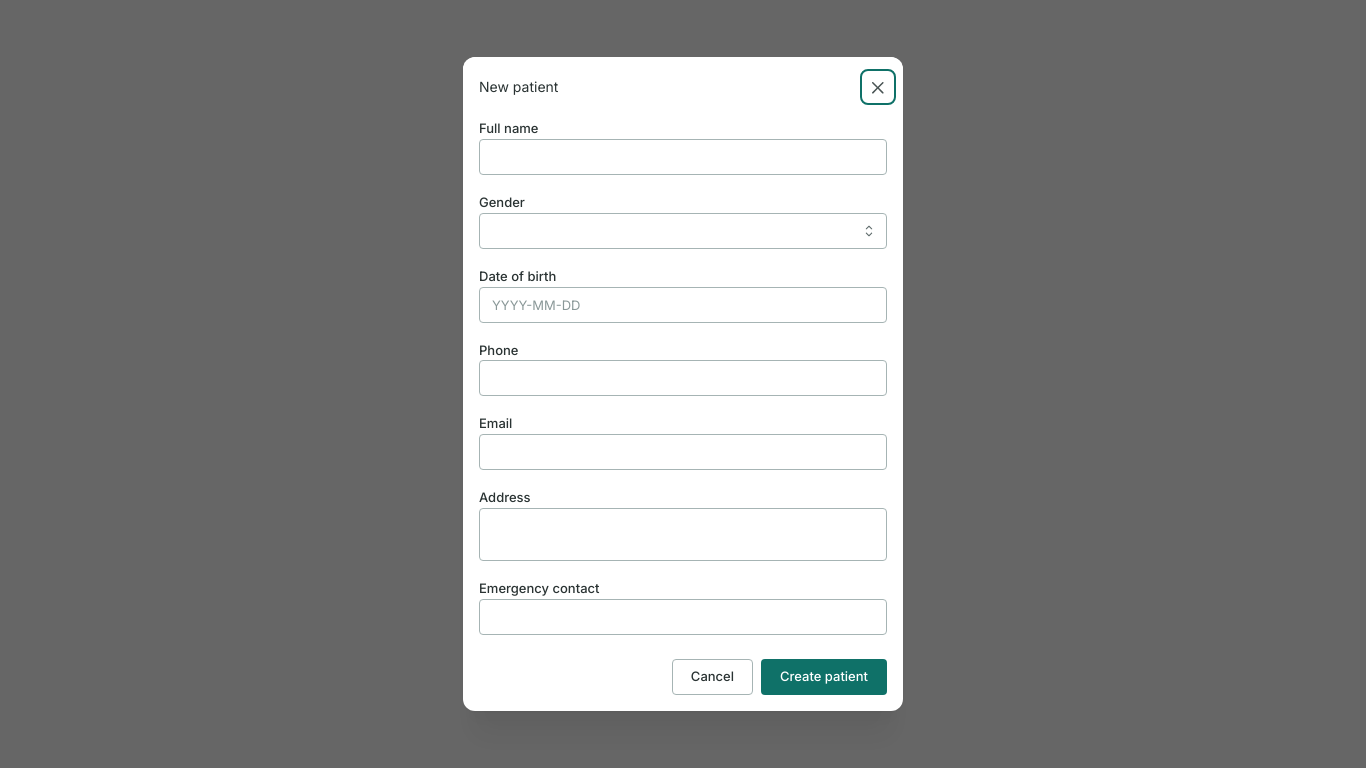
Scenario: DuplicateWarning inside PatientFormDialog › warns on a matching patient without ever blocking submission
Step 1. Type "Asha Rao" into the field labelled "Full name" → [683, 157], box [479,139,887,175]
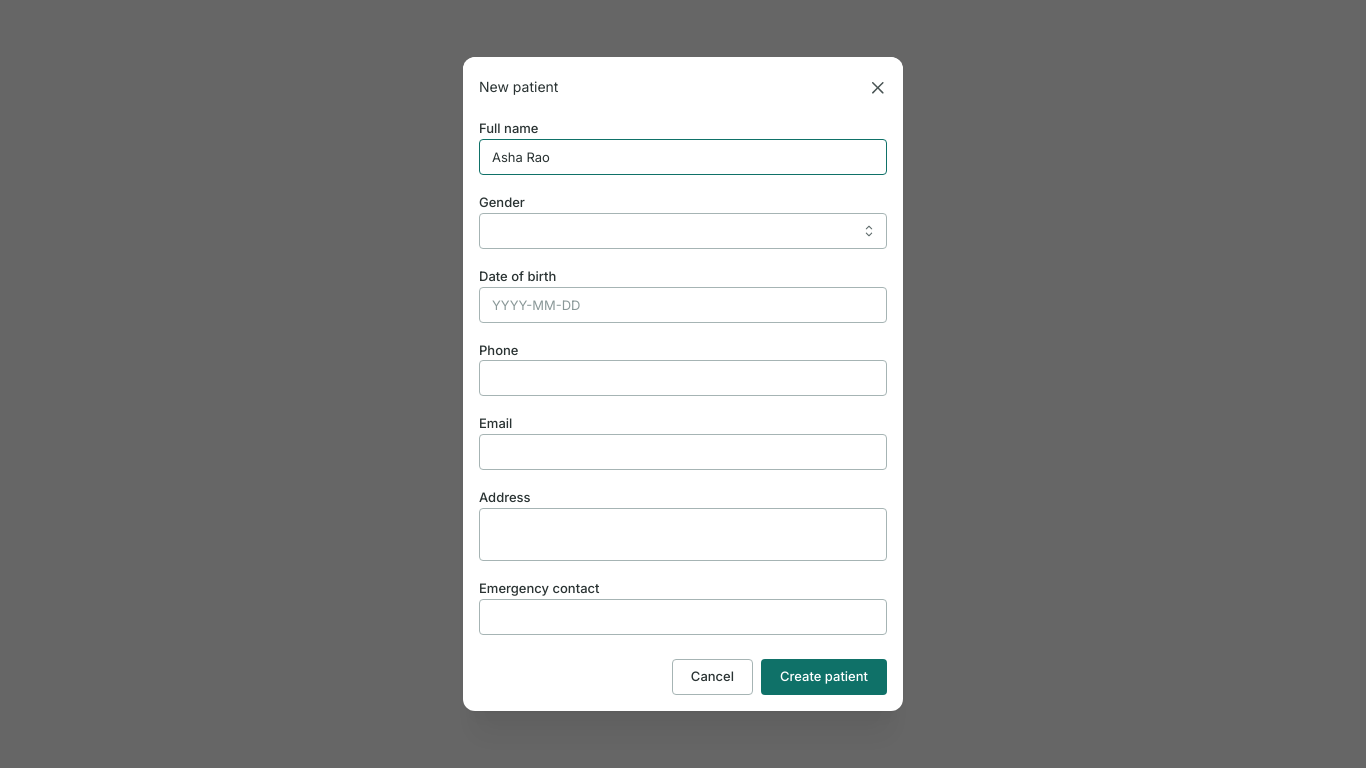
Step 2. Press Tab
(page scrolled)
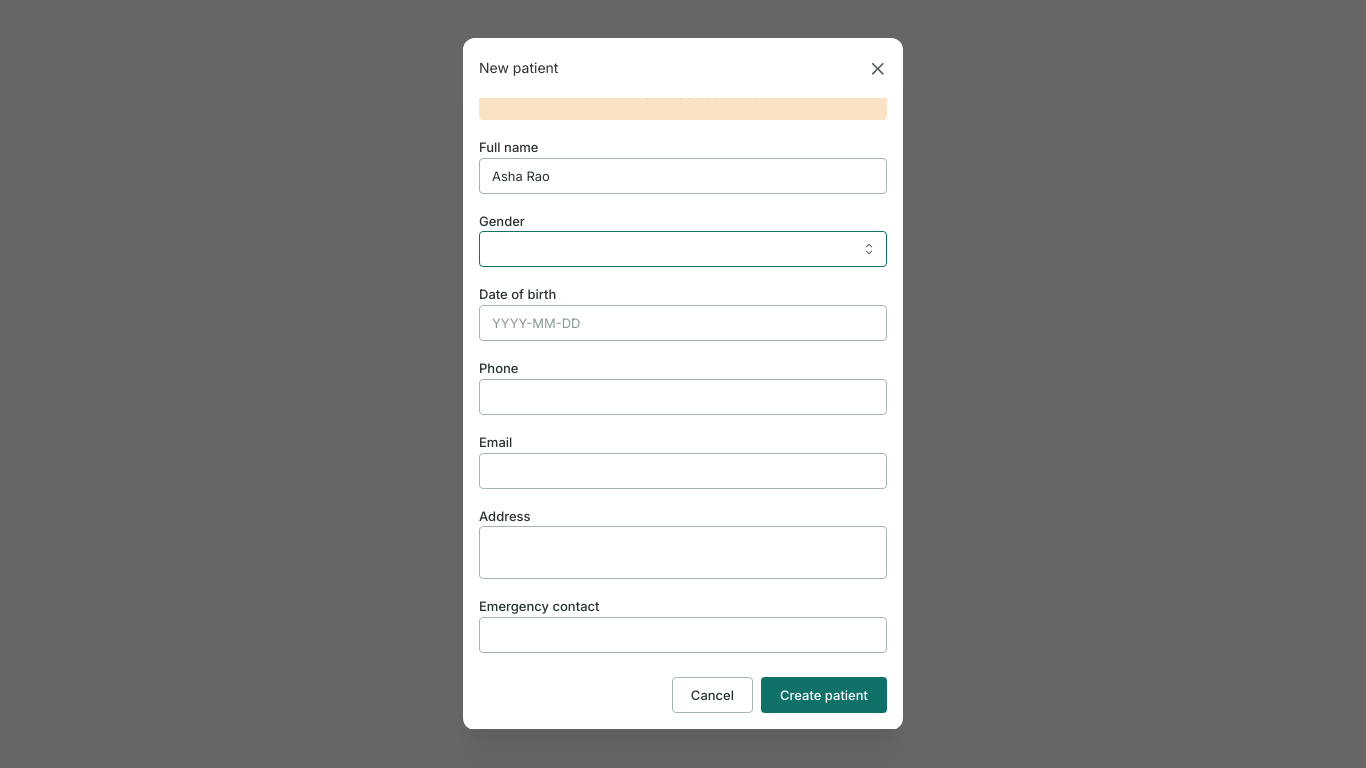
Expected: the link "PT-000001 · Asha Rao · 9876543210" is shown, [556,85,781,101]
Step 3. Click the button "Create patient" → [824, 695], box [761,677,887,713]
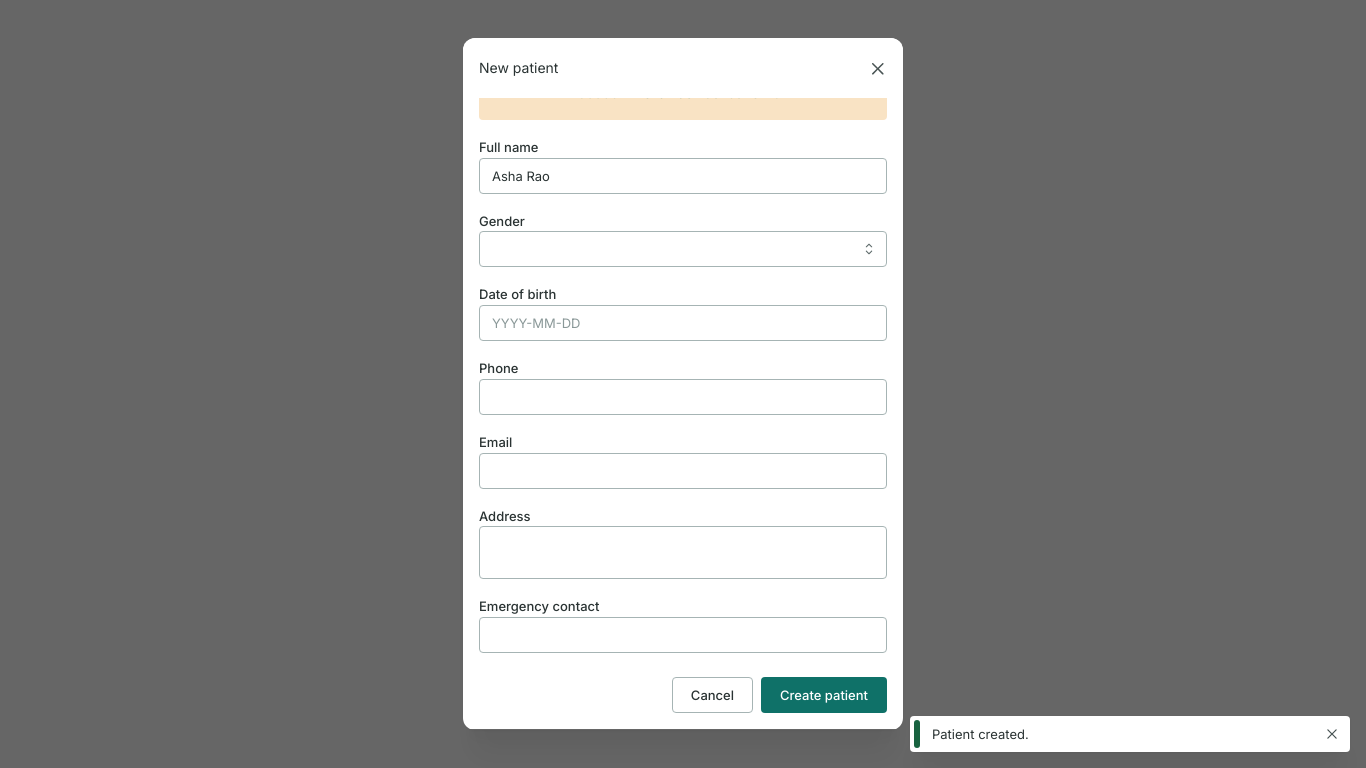
Expected: the text "Patient created." is shown, [932,726,1029,742]
